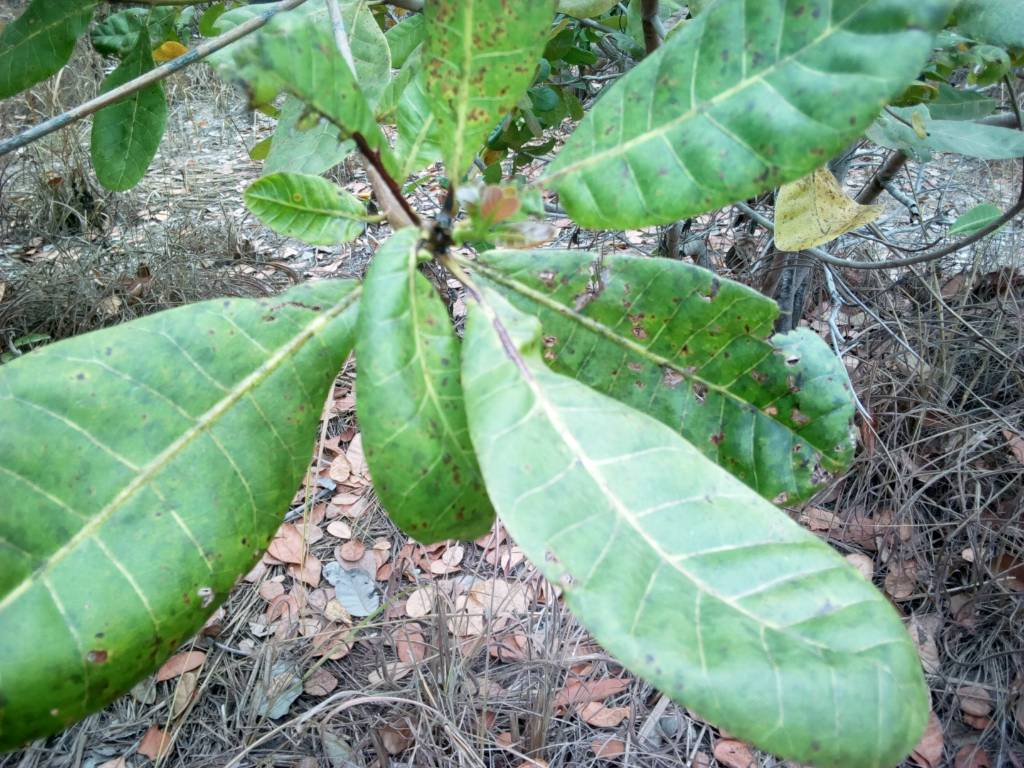Bactériose: (1, 273, 463, 735), (545, 1, 938, 225), (506, 254, 853, 482), (206, 29, 409, 190), (424, 1, 543, 178)
